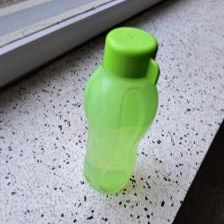bottle: (80, 21, 163, 193)
